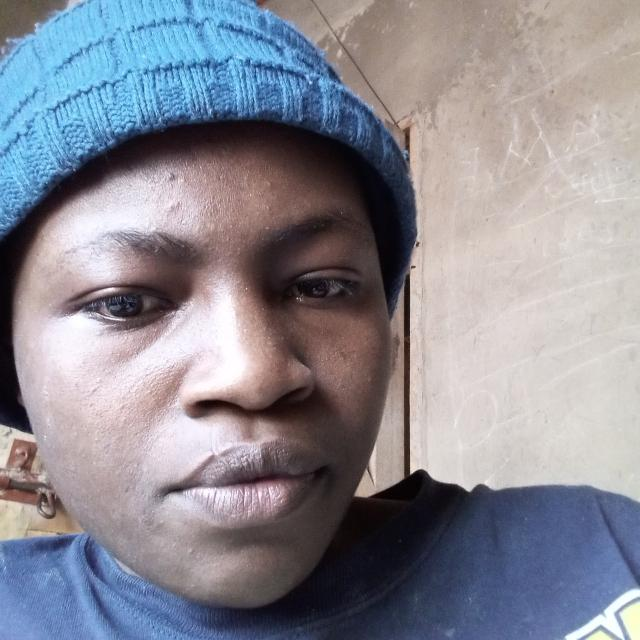Acne: (162, 198, 184, 215), (164, 169, 178, 185), (264, 178, 275, 190)
Dry-Skin: (190, 152, 250, 231), (62, 464, 98, 520), (35, 370, 58, 439), (145, 158, 190, 188)
Englarged-Pores: (136, 351, 184, 403)
